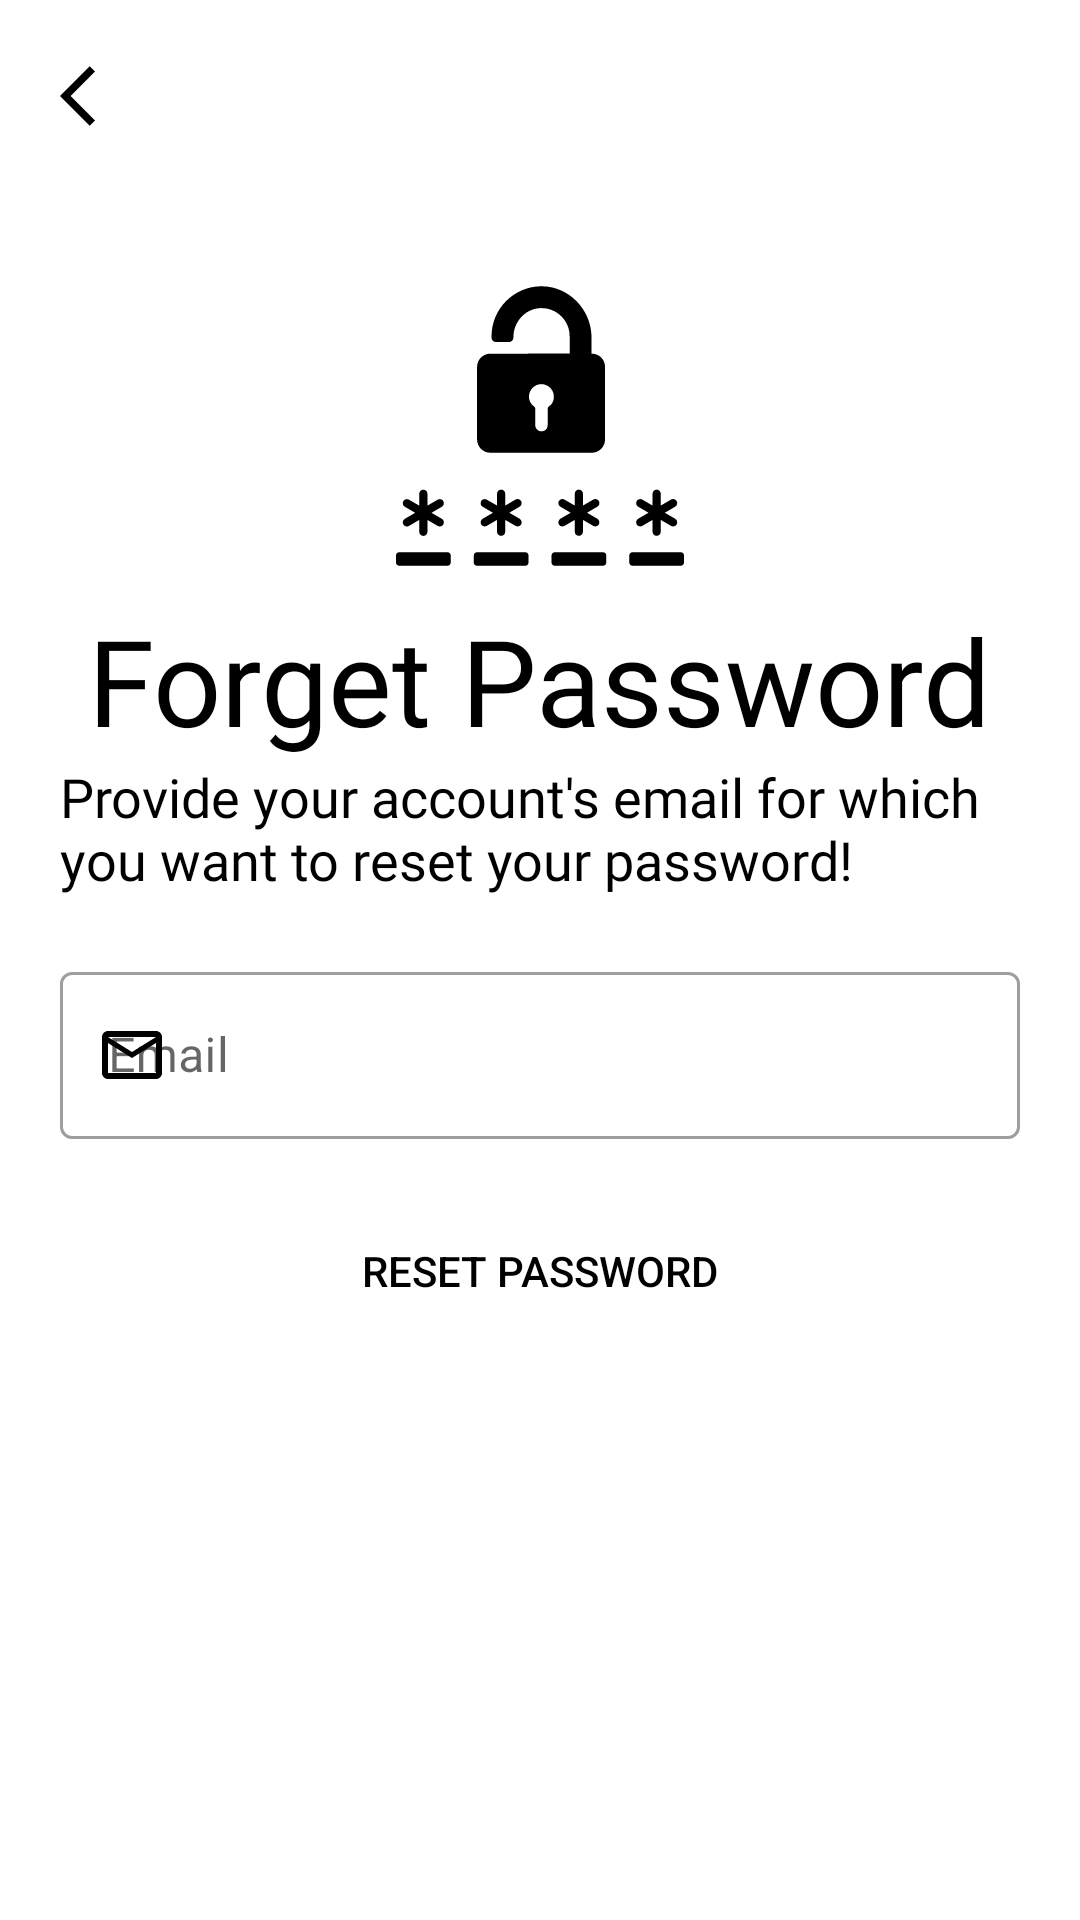

Screen size 1080w x 1920h. Icon name, then its center in pixels as (x=x, y=y):
back: (x=77, y=96)
